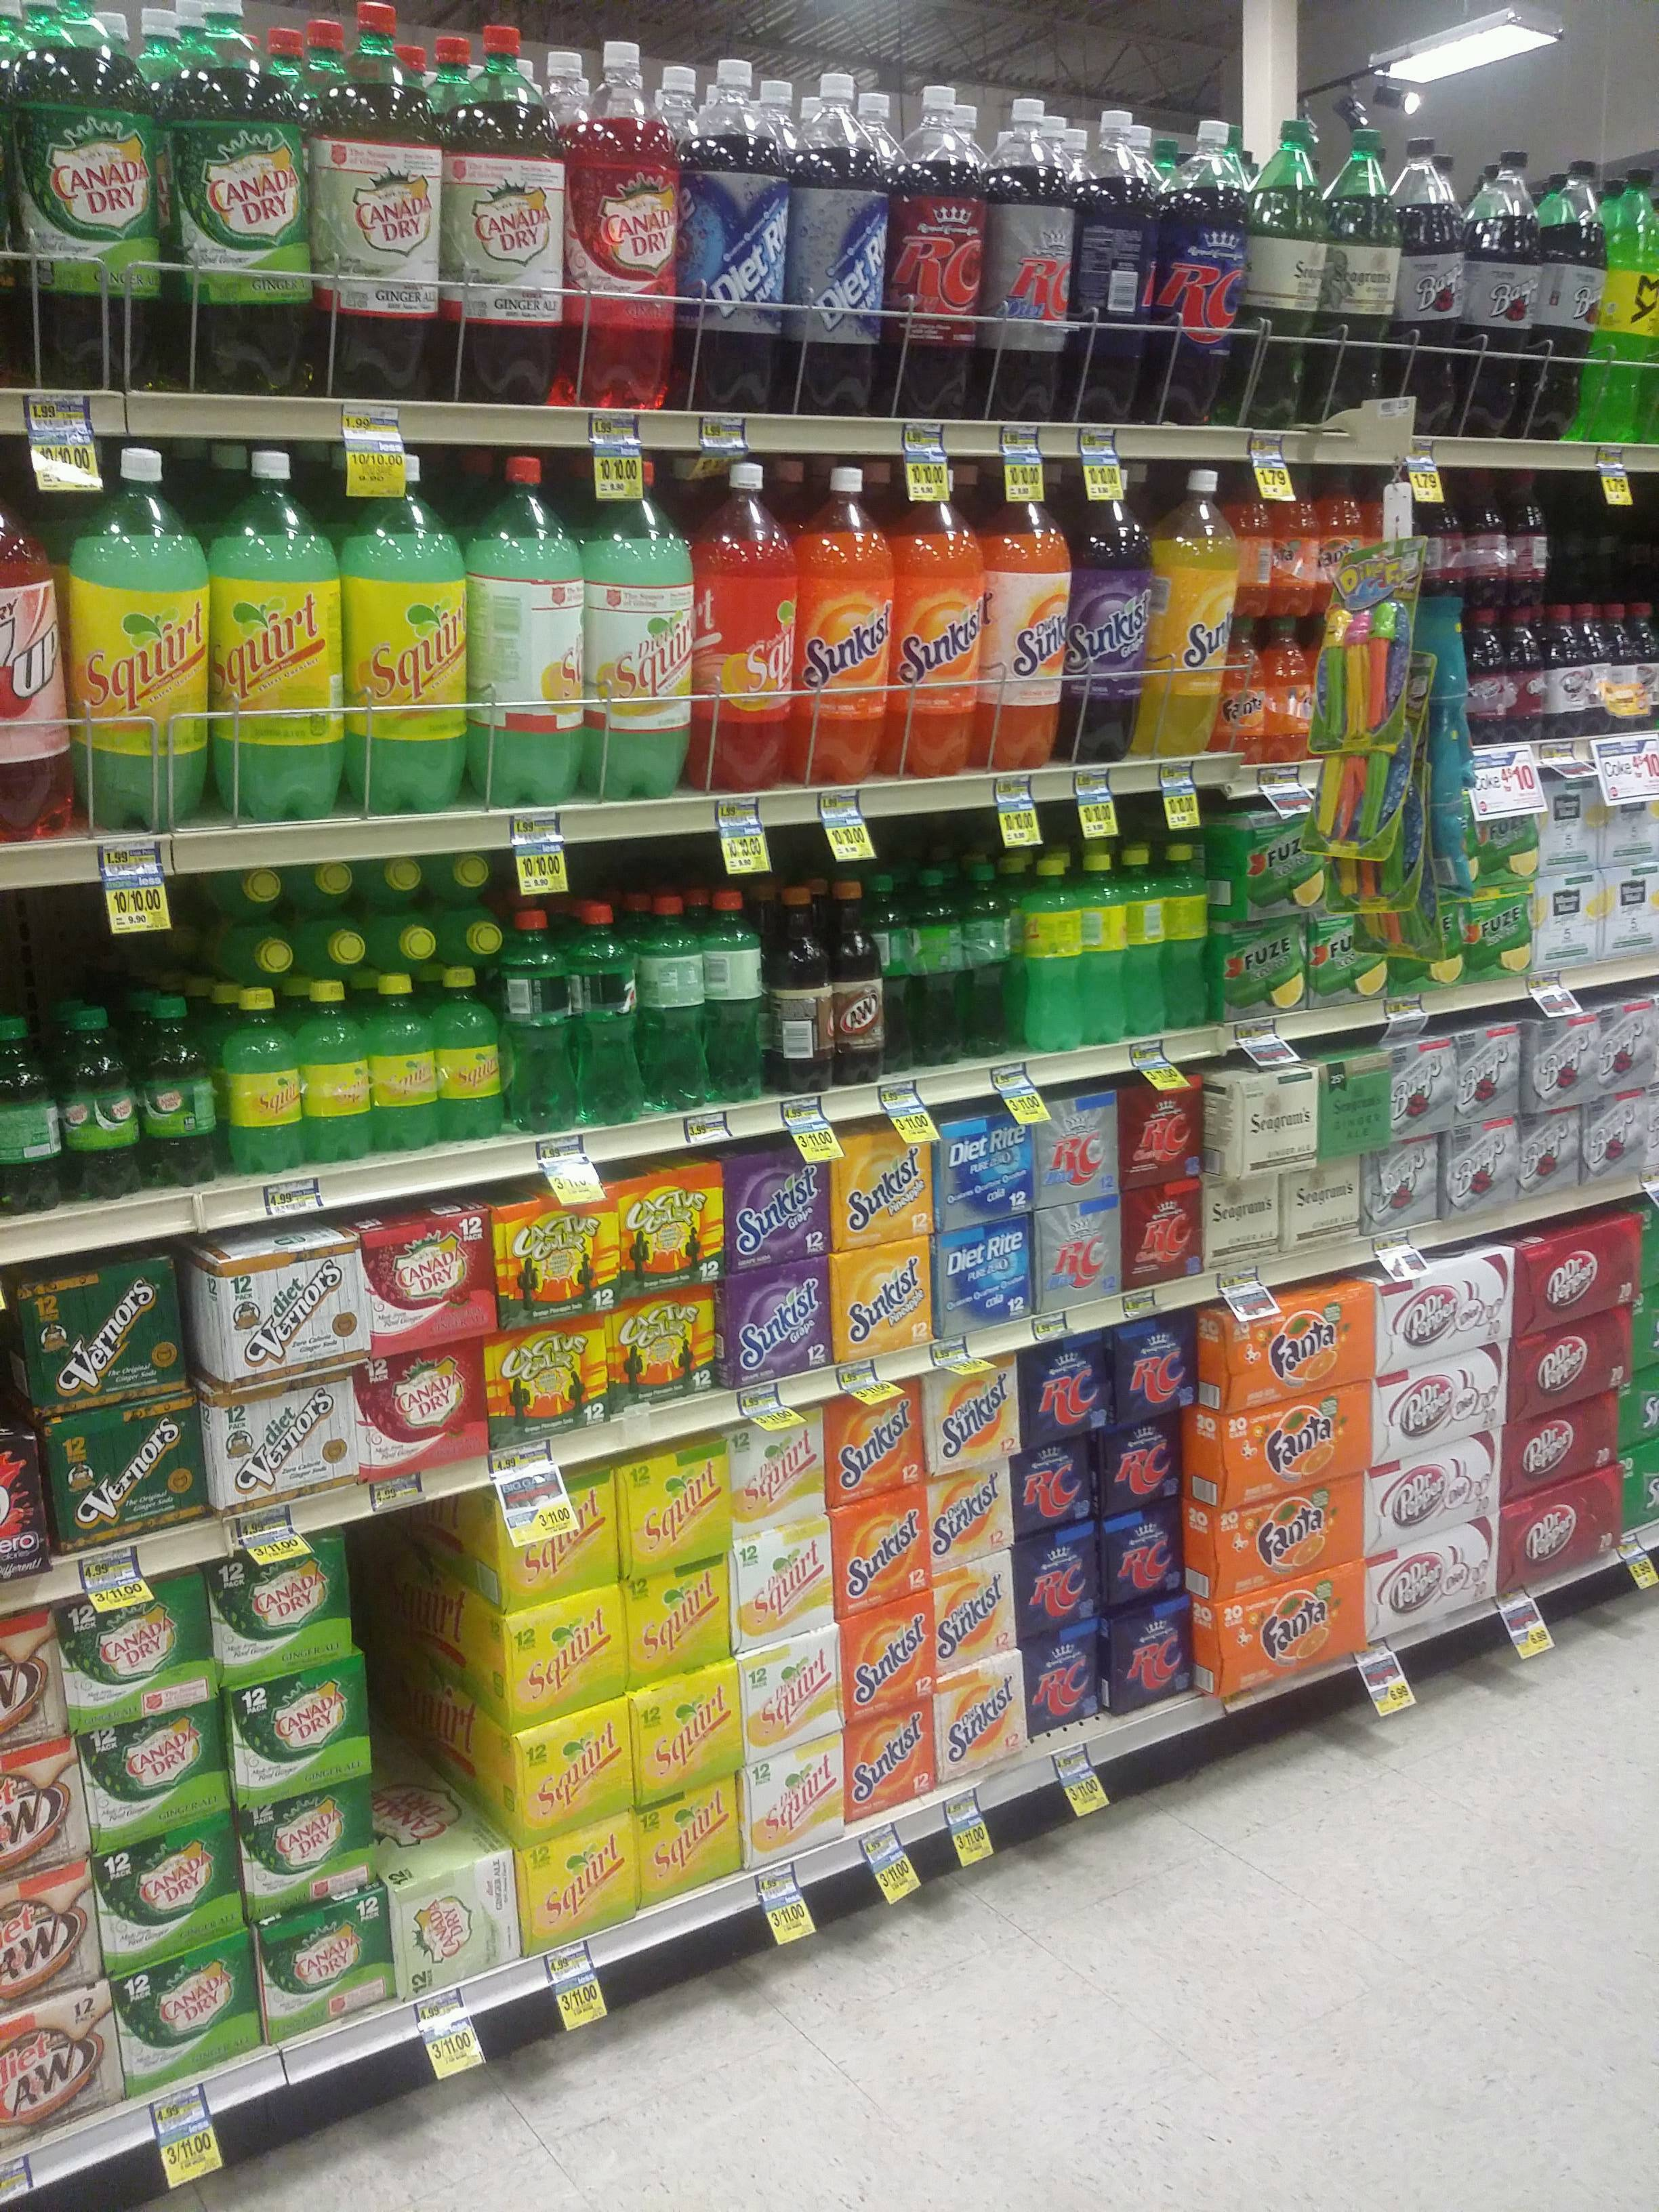Misplacement: (359, 1507, 525, 1993)
